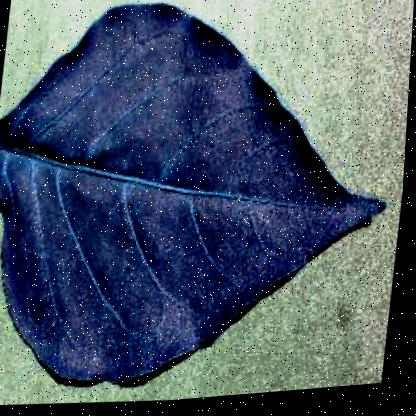Healthy: (0, 0, 414, 408)
